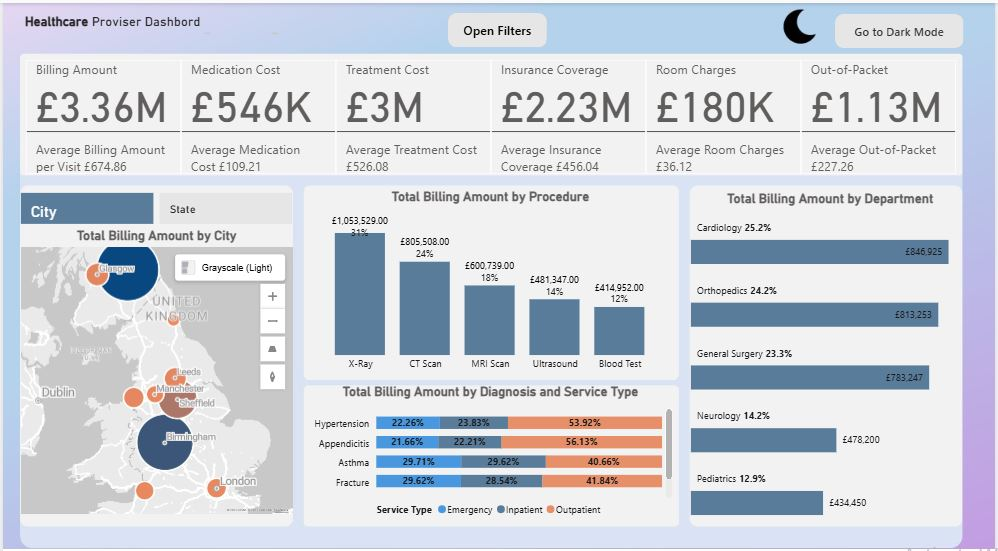

The page's visual inventory and layout, read from the dashboard file:
{"tool":"powerbi","page":{"name":"Light Mode","canvas":[1280,720],"ordinal":1},"visuals":[{"type":"textbox","title":"Healthcare ","box":[23.8,13.8,250.3,31.2],"z":0,"group":"g2"},{"type":"cardVisual","fields":{"Data":["DAX calculation.Total Billing Amount","DAX calculation.Total Medication Cost","DAX calculation.Total Treatment Cost","DAX calculation.Total Insurance Coverage","DAX calculation.Total Room Charges","DAX calculation.Out-of-Packet"]},"box":[24.1,68,1214.6,157.3],"z":0},{"type":"actionButton","title":"Open","box":[574.8,12.9,127.6,44.4],"z":1000,"group":"g1"},{"type":"textbox","title":"Proviser Dashbord","box":[109.8,13.8,250.3,31.2],"z":1000,"group":"g2"},{"type":"qnaVisual","box":[0,705,1280,15],"z":1000},{"type":"azureMap","fields":{"Category":["cities.City"],"Size":["DAX calculation.Total Billing Amount"]},"box":[17.7,290.8,360.7,373.8],"z":2000},{"type":"advancedSlicerVisual","fields":{"Values":["Patients Location Switch.Patients Location Switch"]},"box":[17.7,240,360.7,50.8],"z":3000},{"type":"clusteredColumnChart","fields":{"Category":["procedures.Procedure"],"Y":["DAX calculation.Total Billing Amount"]},"box":[390.3,239.5,478.7,244.3],"z":4000},{"type":"hundredPercentStackedBarChart","fields":{"Y":["DAX calculation.Total Billing Amount"],"Category":["diagnoses.Diagnosis"],"Series":["visits.Service Type"]},"box":[390.3,492.2,478.7,180.3],"z":5000},{"type":"clusteredBarChart","title":"Total Billing Amount by Department","fields":{"Category":["departments.Department"],"Y":["DAX calculation.Blank Measure","DAX calculation.Total Billing Amount"]},"box":[883,242.9,370,425.7],"z":6000},{"type":"actionButton","box":[1072.9,14.2,165.8,43.9],"z":7000},{"type":"group","id":"g1","title":"Slicers Buttons","box":[574.8,12.9,127.6,44.4],"z":9000},{"type":"group","id":"g2","title":"Group 1","box":[23.8,13.8,336.2,31.2],"z":10002}]}

Visuals, with their boxes in screenshot pixels (x1, y1, x2, y2), scaled from the page's 1280x720 canvas onto the 998x551 screenshot:
"Healthcare " textbox: locate(19, 11, 214, 34)
cardVisual - DAX calculation.Total Billing Amount x DAX calculation.Total Medication Cost: locate(19, 52, 966, 172)
"Open" actionButton: locate(448, 10, 548, 44)
"Proviser Dashbord" textbox: locate(86, 11, 281, 34)
qnaVisual: locate(0, 540, 997, 550)
azureMap - cities.City x DAX calculation.Total Billing Amount: locate(14, 223, 295, 509)
advancedSlicerVisual - Patients Location Switch.Patients Location Switch: locate(14, 184, 295, 223)
clusteredColumnChart - procedures.Procedure x DAX calculation.Total Billing Amount: locate(304, 183, 678, 370)
hundredPercentStackedBarChart - DAX calculation.Total Billing Amount x diagnoses.Diagnosis: locate(304, 377, 678, 515)
"Total Billing Amount by Department" clusteredBarChart: locate(688, 186, 977, 512)
actionButton: locate(837, 11, 966, 44)
"Slicers Buttons" group: locate(448, 10, 548, 44)
"Group 1" group: locate(19, 11, 281, 34)
